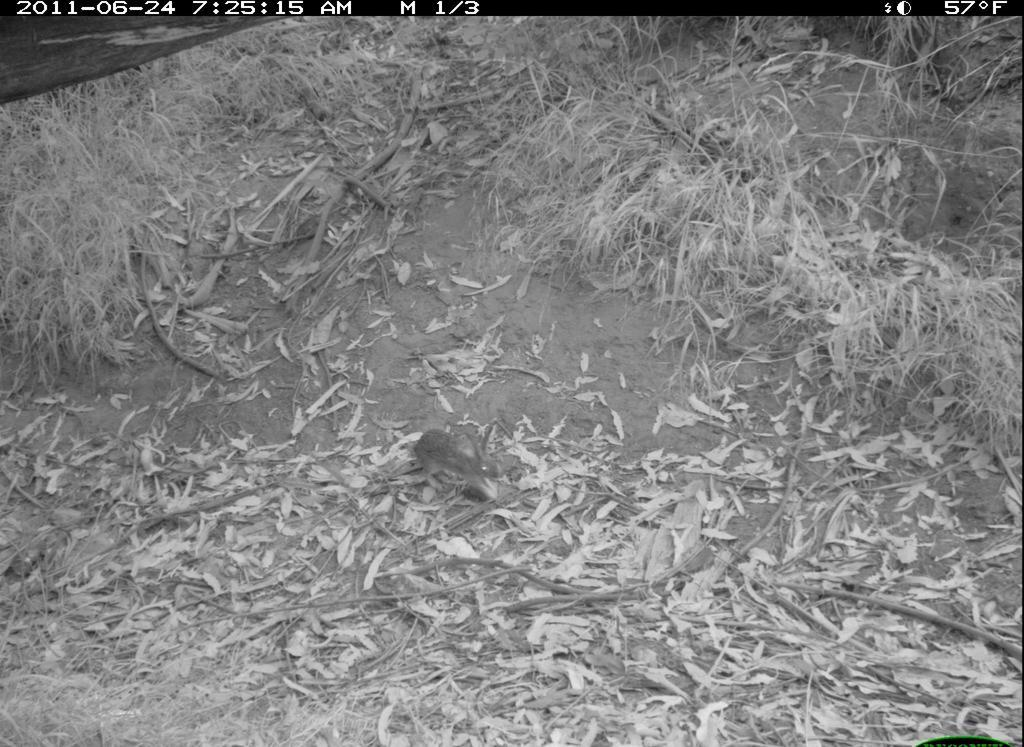rabbit: (386, 379, 545, 525)
